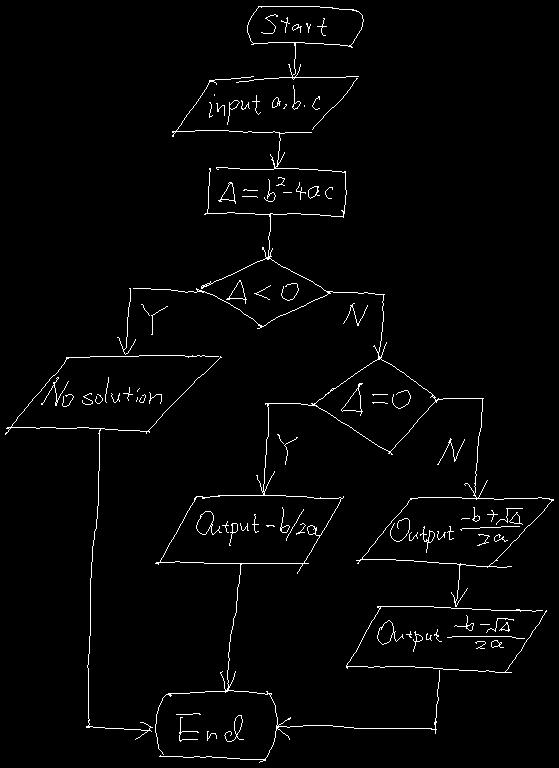arrow: (86, 429, 152, 739), (276, 670, 439, 739), (117, 288, 204, 354), (256, 403, 316, 495), (438, 398, 487, 499), (327, 291, 386, 359), (220, 563, 241, 692), (451, 563, 467, 606), (270, 133, 284, 168), (262, 214, 272, 259), (288, 42, 300, 79)
data: (5, 355, 221, 434), (155, 495, 343, 573), (356, 497, 553, 567), (346, 606, 546, 672), (172, 76, 358, 136)
decision: (311, 357, 438, 454), (196, 256, 330, 328)
process: (204, 167, 346, 217)
terminator: (155, 690, 277, 762), (247, 6, 363, 47)
text: (390, 507, 522, 552), (377, 615, 524, 651), (196, 507, 319, 545), (209, 85, 319, 124), (41, 377, 161, 406), (218, 177, 332, 203), (341, 383, 410, 415), (176, 713, 243, 741), (226, 280, 298, 303), (261, 14, 326, 35), (141, 304, 167, 334), (437, 438, 464, 464), (277, 434, 297, 464), (343, 303, 367, 325)
